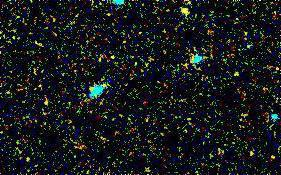star: (161, 0, 191, 29)
